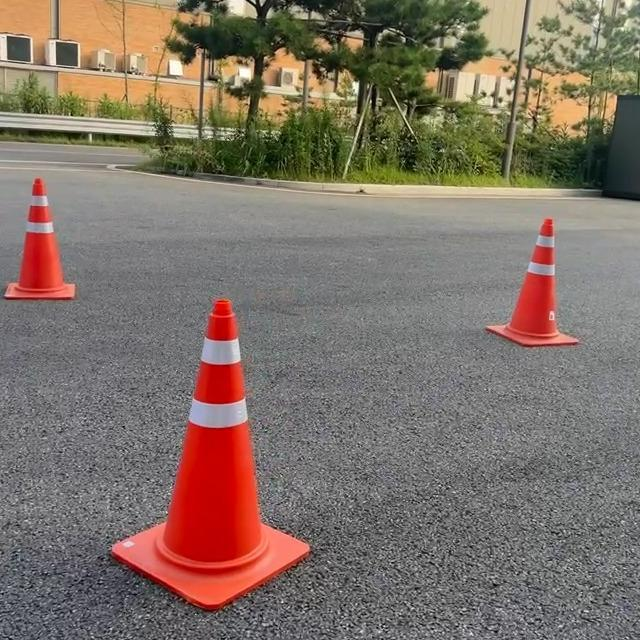fallen_object: (136, 302, 318, 561), (450, 180, 577, 377), (5, 140, 90, 306)
